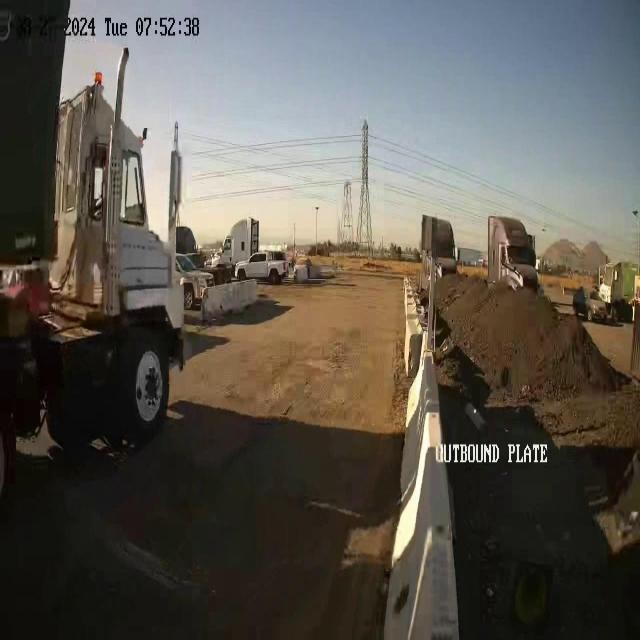TRUCK_CONTAINER: (0, 0, 183, 465)
